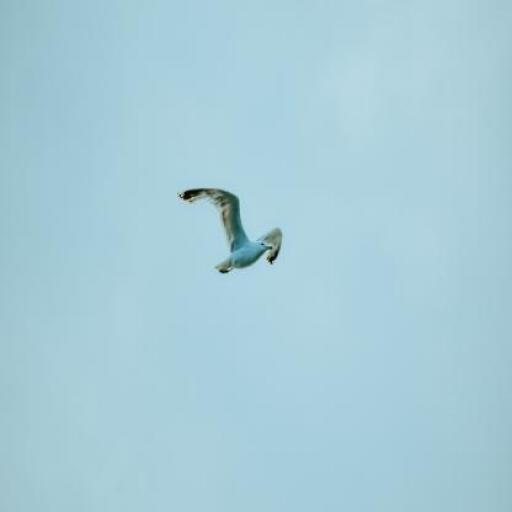bird: (179, 187, 283, 277)
